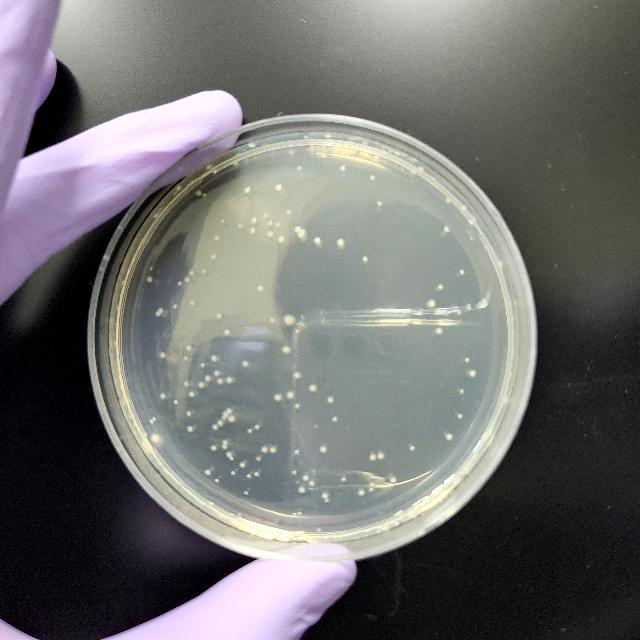colony: (283, 314, 295, 326), (281, 346, 293, 354), (292, 370, 300, 380), (228, 414, 236, 424), (286, 390, 294, 400), (309, 383, 317, 392), (428, 300, 436, 308), (435, 328, 443, 336), (222, 410, 230, 418), (326, 396, 334, 404), (188, 298, 196, 306), (215, 312, 223, 320), (445, 433, 453, 441), (314, 236, 322, 244), (154, 310, 162, 318), (212, 234, 220, 242), (278, 235, 286, 243), (275, 184, 283, 192), (244, 186, 252, 194), (195, 190, 203, 198), (338, 238, 344, 248), (319, 445, 326, 453), (274, 394, 282, 401), (223, 327, 230, 335), (358, 489, 366, 496), (248, 228, 256, 235), (469, 369, 476, 376), (459, 203, 466, 210), (270, 446, 276, 454), (238, 462, 246, 468), (204, 470, 212, 476), (210, 444, 216, 452), (188, 425, 194, 433), (217, 419, 223, 427), (221, 414, 227, 422), (242, 360, 248, 368), (226, 376, 232, 384), (210, 354, 216, 362), (204, 374, 210, 382), (188, 392, 196, 398), (186, 410, 192, 418), (160, 392, 166, 400), (302, 475, 310, 481), (298, 487, 306, 493), (378, 452, 384, 460), (188, 270, 196, 276), (210, 254, 218, 260), (251, 216, 257, 224), (294, 226, 302, 232), (297, 232, 305, 238), (248, 142, 256, 148), (152, 214, 160, 220), (225, 451, 232, 457), (212, 424, 218, 431), (225, 408, 232, 414), (309, 479, 315, 486), (160, 352, 167, 358), (370, 454, 376, 461), (362, 255, 368, 262), (339, 165, 346, 171), (444, 225, 450, 232), (438, 284, 444, 290), (459, 389, 465, 395), (262, 447, 268, 453), (256, 456, 262, 462), (230, 470, 236, 476), (222, 444, 228, 450), (216, 378, 222, 384), (214, 370, 220, 376), (198, 382, 204, 388), (294, 449, 300, 455), (322, 493, 328, 499), (340, 476, 346, 482), (294, 403, 300, 409), (186, 345, 192, 351), (409, 446, 415, 452), (376, 201, 382, 207), (459, 269, 465, 275), (446, 197, 452, 203), (257, 285, 263, 291), (158, 307, 164, 313), (147, 276, 153, 282), (184, 276, 190, 282), (238, 222, 244, 228), (268, 232, 274, 238), (300, 228, 306, 234), (233, 160, 239, 166), (326, 132, 332, 138), (498, 260, 504, 266), (368, 482, 376, 486), (298, 164, 302, 172), (389, 478, 396, 482), (458, 310, 462, 316), (465, 357, 469, 363), (255, 424, 259, 430), (248, 428, 252, 434), (246, 474, 252, 478), (254, 472, 260, 476), (214, 479, 220, 483), (228, 456, 234, 460), (222, 440, 228, 444), (200, 362, 204, 368), (152, 416, 156, 422), (292, 470, 296, 476), (332, 418, 338, 422), (184, 381, 188, 387), (174, 303, 178, 309), (458, 414, 462, 420), (369, 176, 375, 180), (269, 318, 275, 322), (150, 266, 154, 272), (202, 268, 206, 274), (222, 218, 226, 224), (268, 219, 272, 225), (275, 222, 281, 226), (286, 210, 292, 214), (304, 134, 308, 140), (202, 192, 206, 198), (244, 491, 248, 495), (174, 400, 178, 404), (150, 420, 154, 424), (292, 512, 296, 516), (317, 527, 321, 531), (324, 499, 328, 503), (184, 356, 188, 360), (370, 488, 374, 492), (178, 282, 182, 286), (263, 214, 267, 218), (298, 511, 300, 515)
